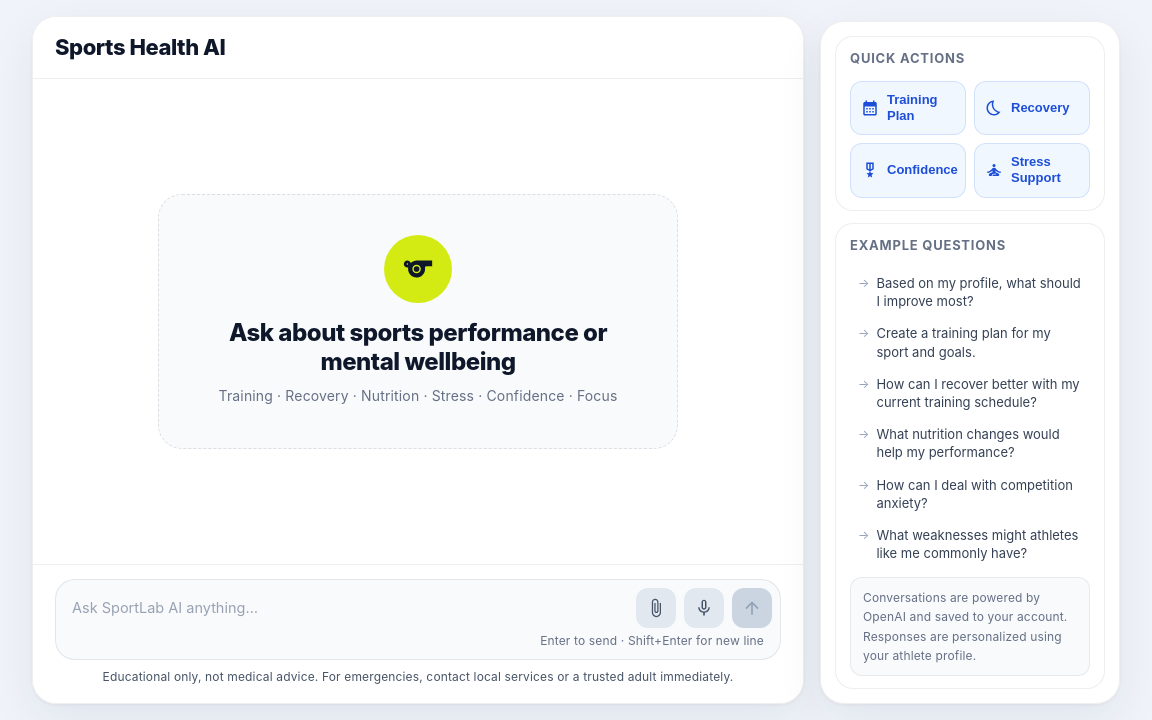
Test case: V4-13: example questions › still ask the question when pressed (a guest is told to sign in)
What coordinates should you click on to do the following:
click the button "Based on my profile, what should I improve most?"
I would click on:
 (970, 292)
Its box is [850, 267, 1090, 317].
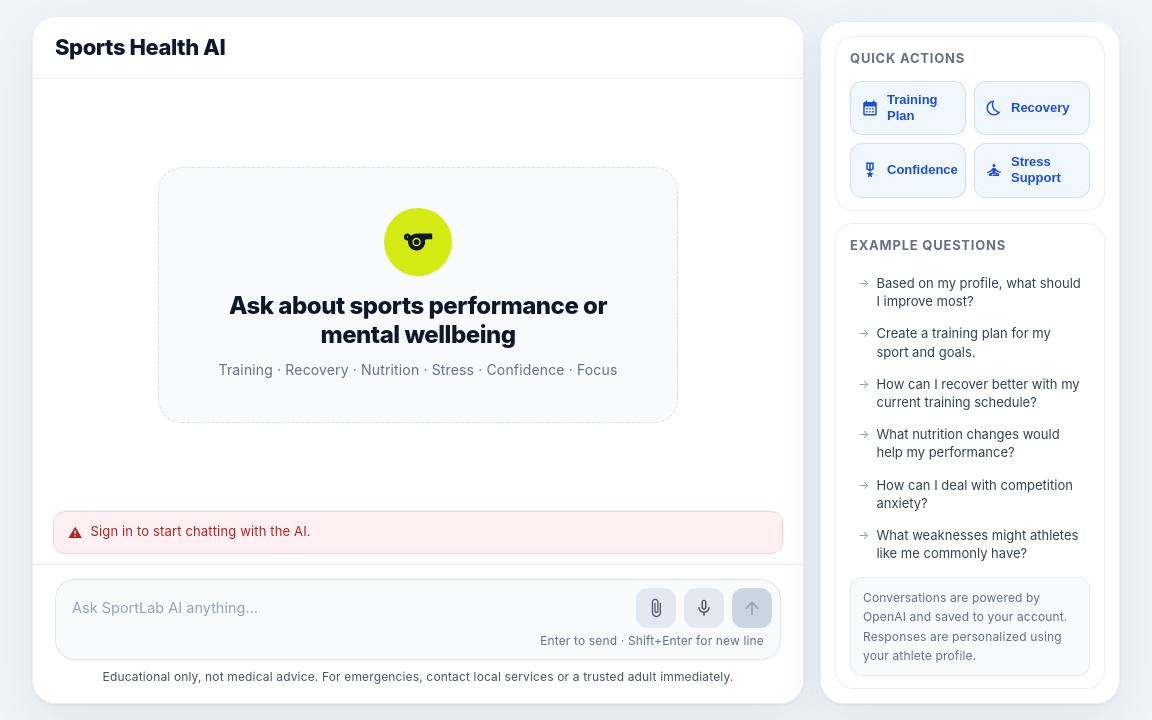
Expected: the message "Sign in to start chatting with the AI." is shown, [53, 511, 783, 554]
